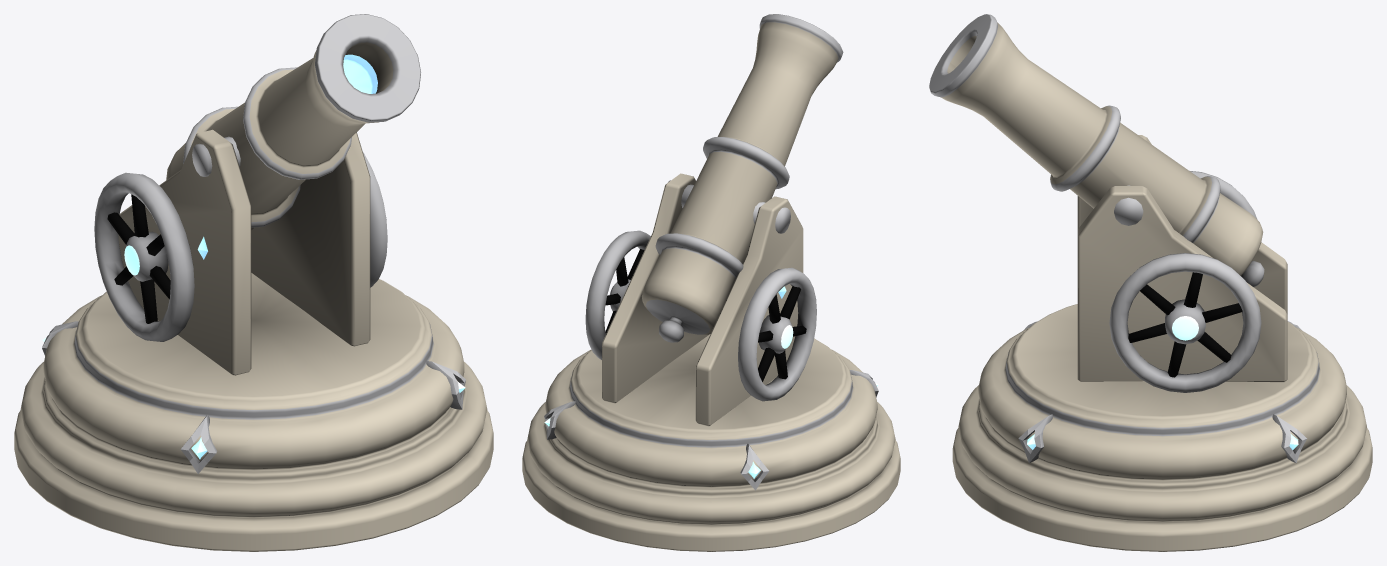
Rendered from cannon.glb.
3 views of the same model, side by side, from view 1: azimuth 30°, elevation 25°; view 2: azimuth 150°, elevation 25°; view 3: azimuth 270°, elevation 25° (orthographic). The views are drawn at different scales.
Parts seen in each view (by area): view 1: cannon; view 2: cannon; view 3: cannon.
Boxes of the visible parts, <box> form: cannon: <box>14,14,493,551</box>; cannon: <box>522,14,900,551</box>; cannon: <box>929,14,1372,551</box>.
Bounding box in the file's own units: 0.74 × 0.8643 × 0.7814.
